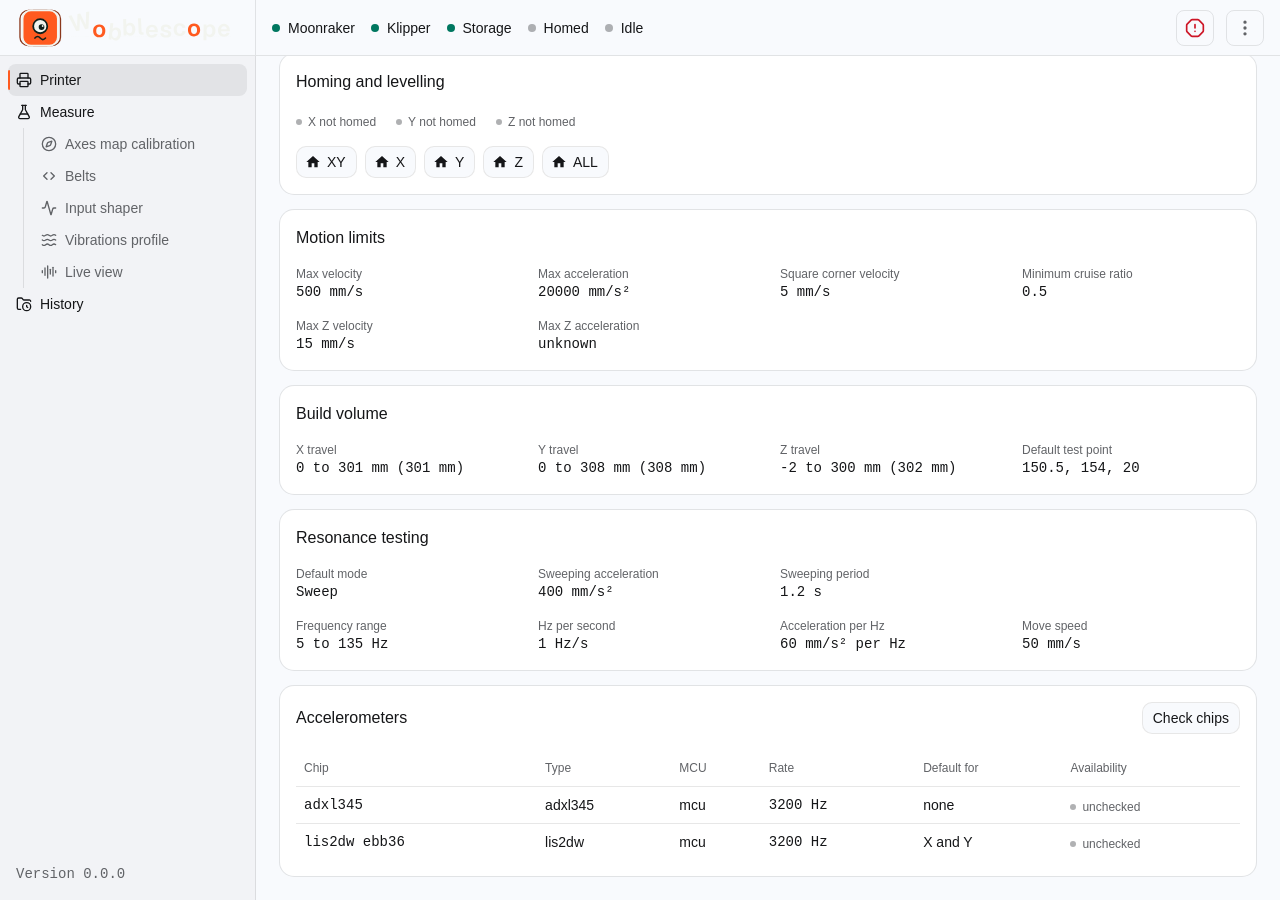
Test: checking the chips › posts the check and shows what it found
This screenshot has width=1280, height=900.
(page scrolled)
Click the button "Check chips" at coordinates (1191, 718), box x1=1142 y1=702 x2=1240 y2=734
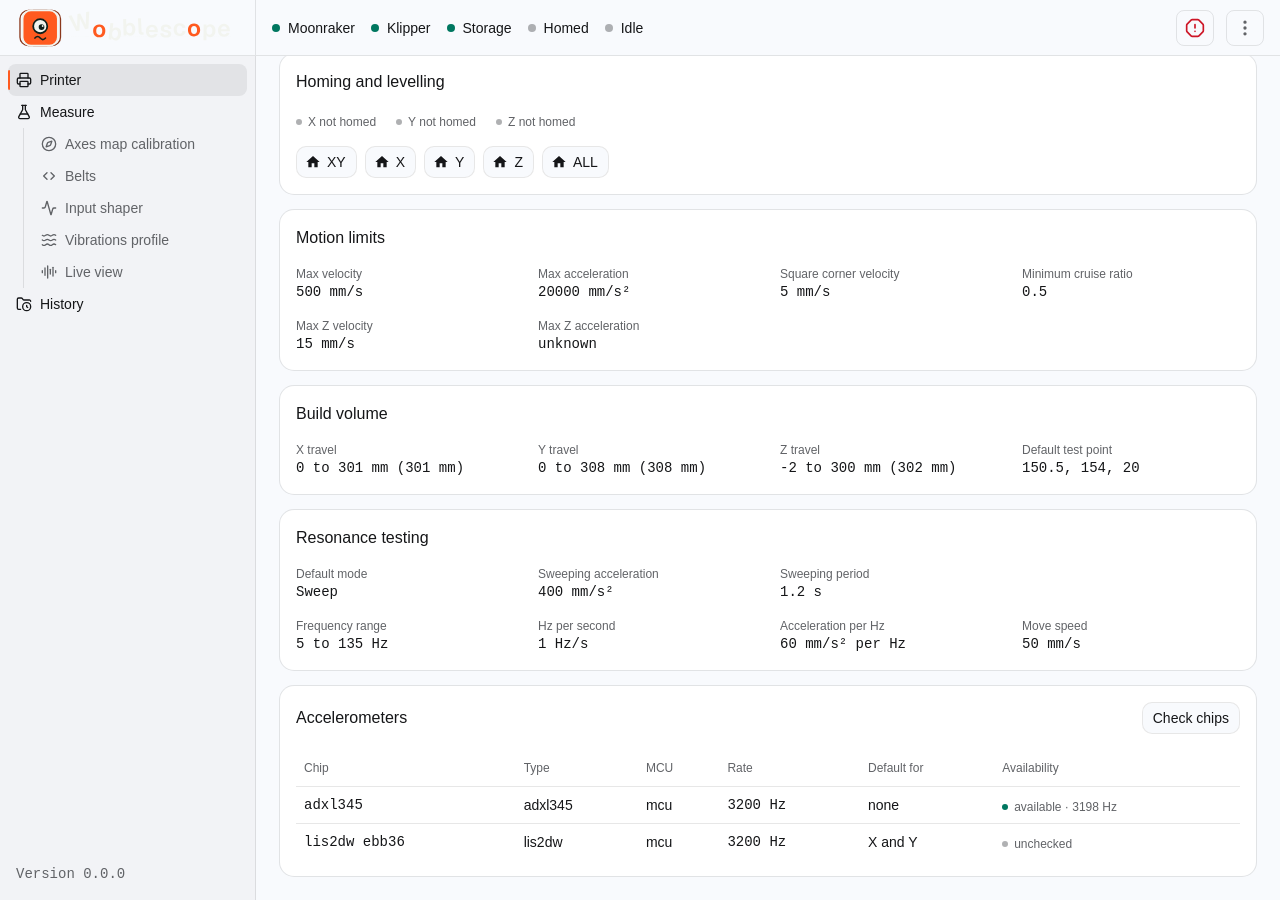
Now the text "available · 3198 Hz" is shown, box x1=1002 y1=799 x2=1117 y2=815
